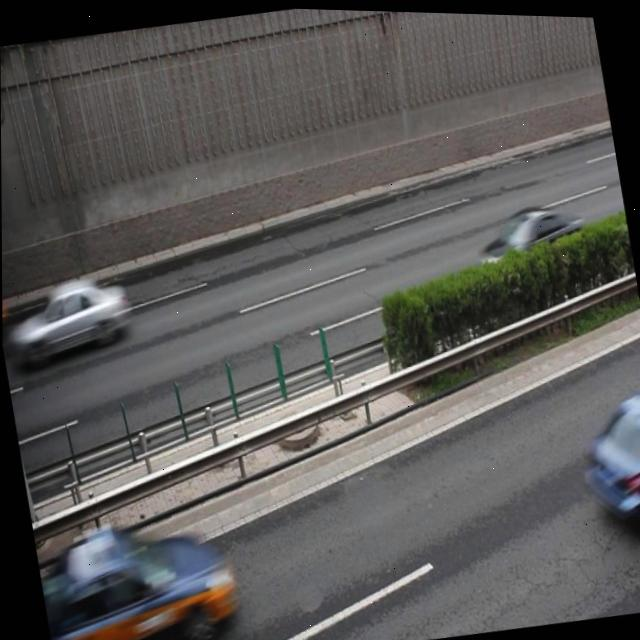car: (57, 511, 243, 640), (469, 195, 588, 288), (571, 379, 640, 536), (23, 268, 136, 362)
